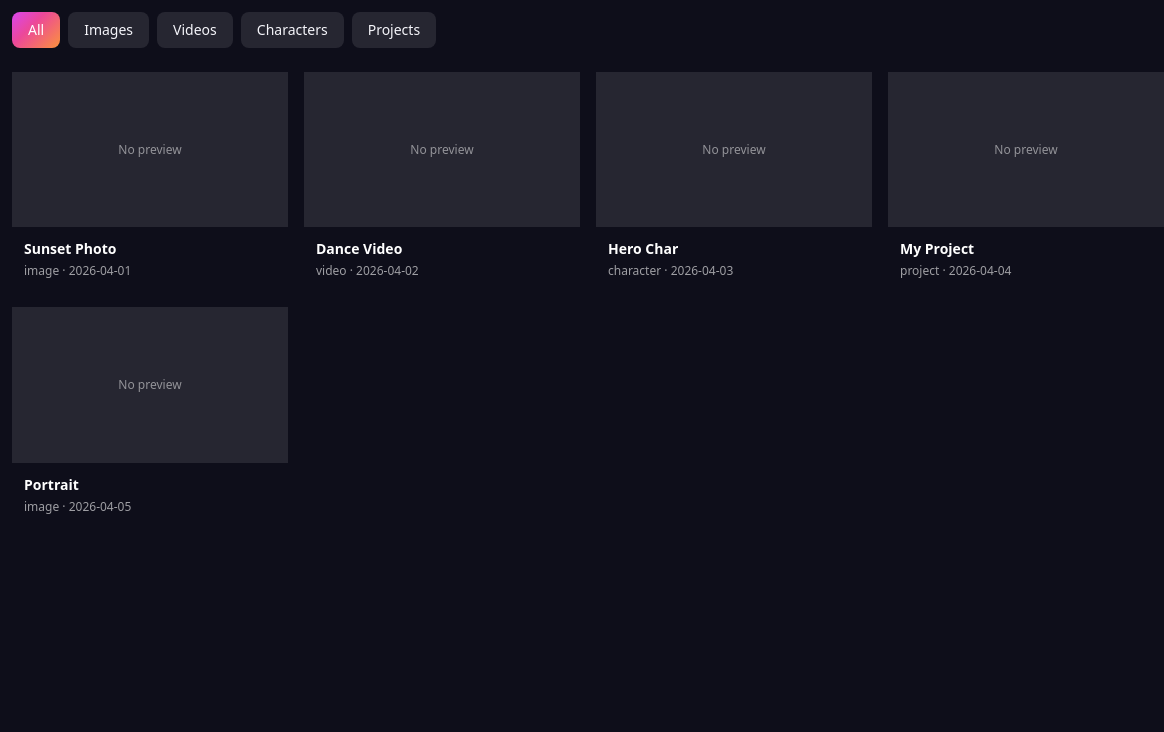
LibraryTabs › filters to only images when Images tab clicked
The width and height of the screenshot is (1164, 732).
Step 1. Click the tab "Images" → (109, 30), box [68,12,149,48]
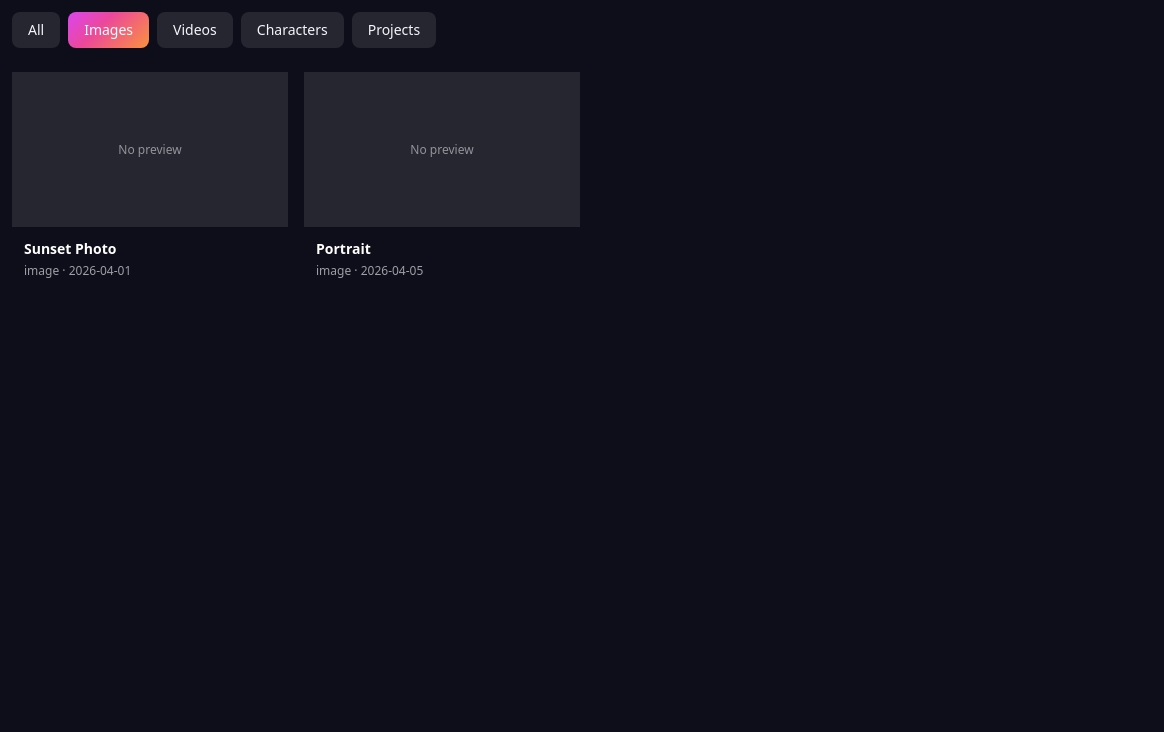
Result: the link "Dance Video" is gone
Result: the link "Hero Char" is gone
Result: the link "My Project" is gone
